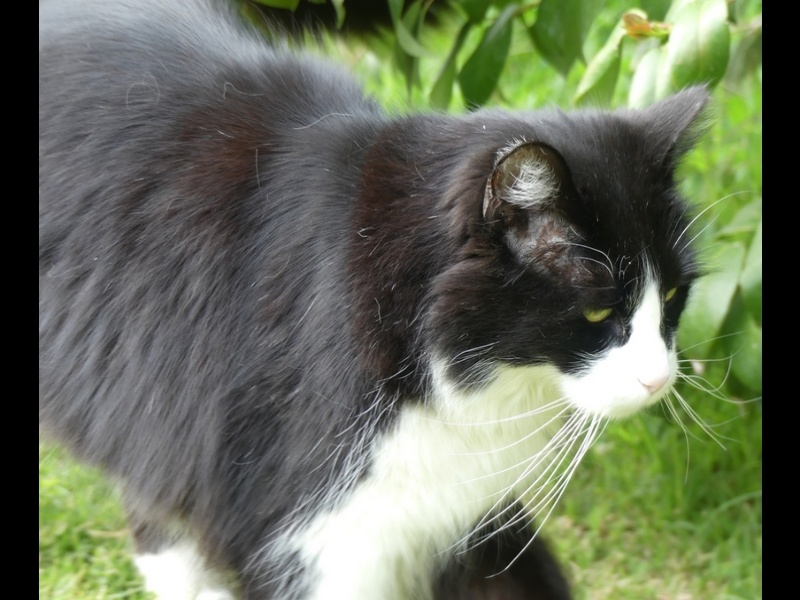cat: (40, 1, 721, 597)
